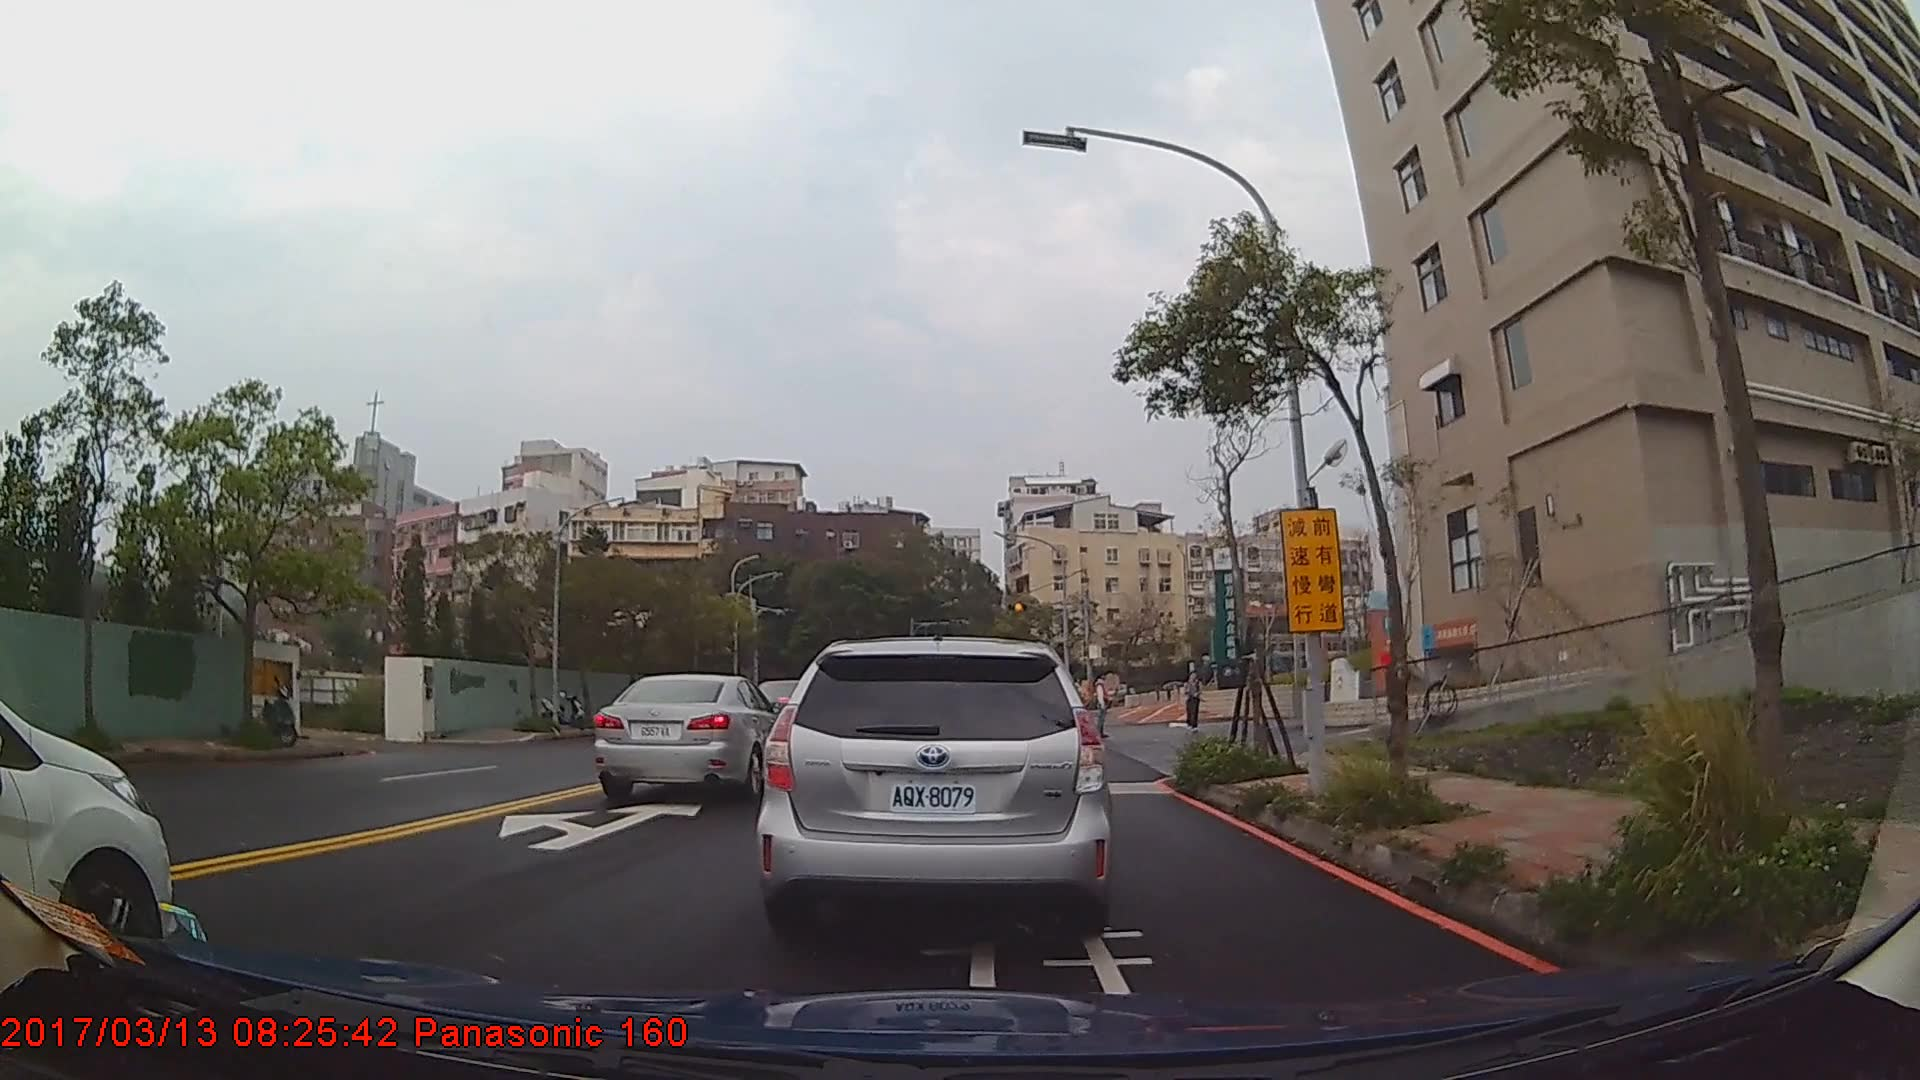pedestrian: (1093, 667, 1115, 743), (1183, 675, 1204, 735)
vehicle: (756, 637, 1111, 949), (0, 694, 174, 975), (591, 673, 787, 806)
